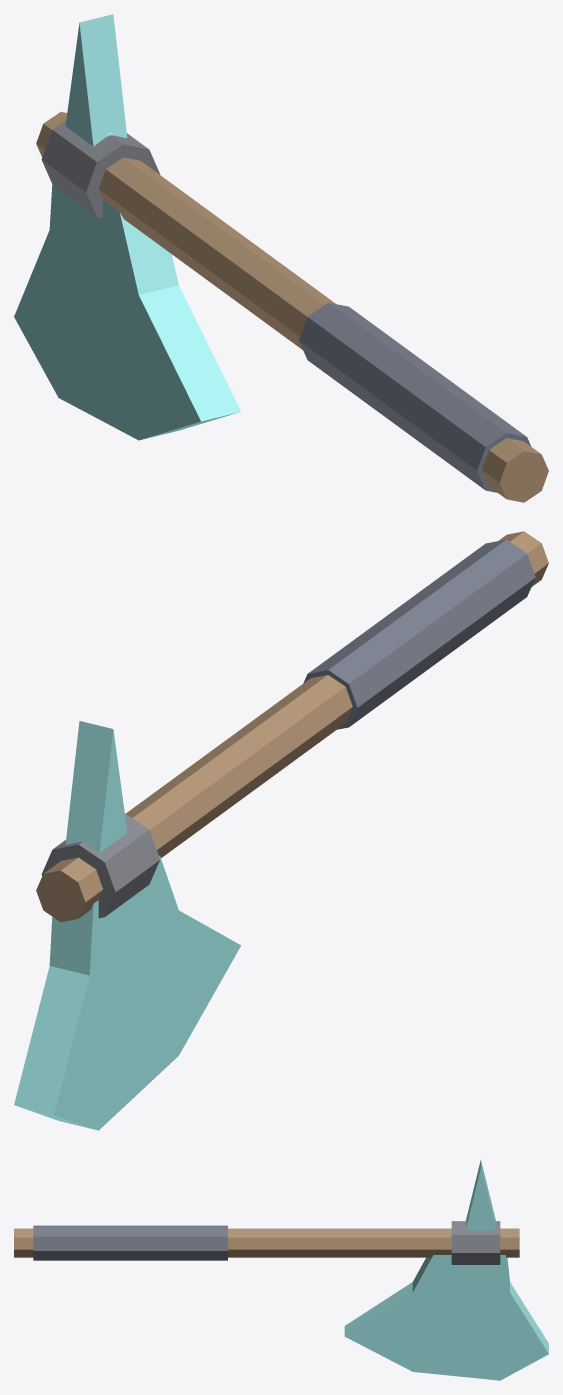
The model's file is diamond_axe_held.gltf.
3 renders of one model, top to bottom at view 1: azimuth 30°, elevation 25°; view 2: azimuth 150°, elevation 25°; view 3: azimuth 270°, elevation 25°, orthographic. The views are drawn at different scales.
Visible parts, largest first — view 1: furnace_diamond_axe_held; view 2: furnace_diamond_axe_held; view 3: furnace_diamond_axe_held.
Part boxes in pixels (x1=…): furnace_diamond_axe_held: x1=14, y1=14, x2=548, y2=502; furnace_diamond_axe_held: x1=14, y1=531, x2=548, y2=1130; furnace_diamond_axe_held: x1=14, y1=1160, x2=548, y2=1380.
Bounding box in the file's own units: 0.048 × 0.24 × 0.55.
